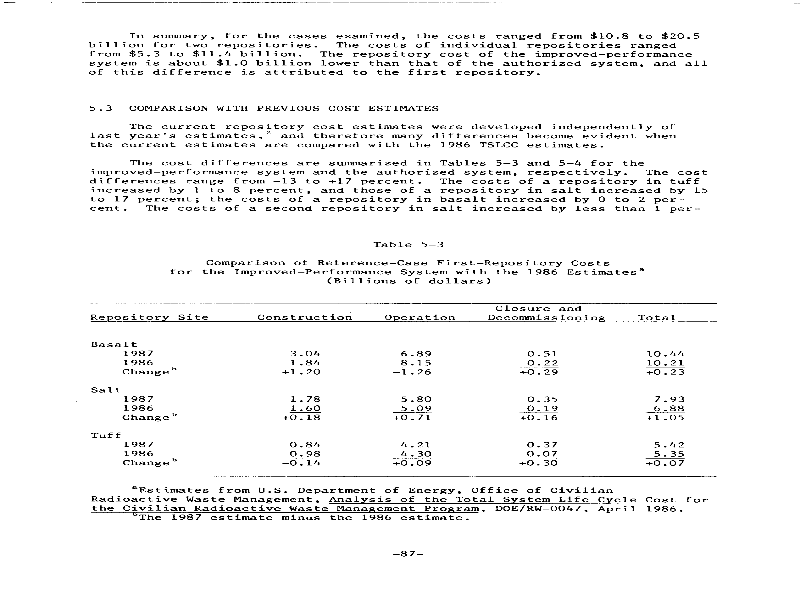table: (86, 300, 729, 525)
